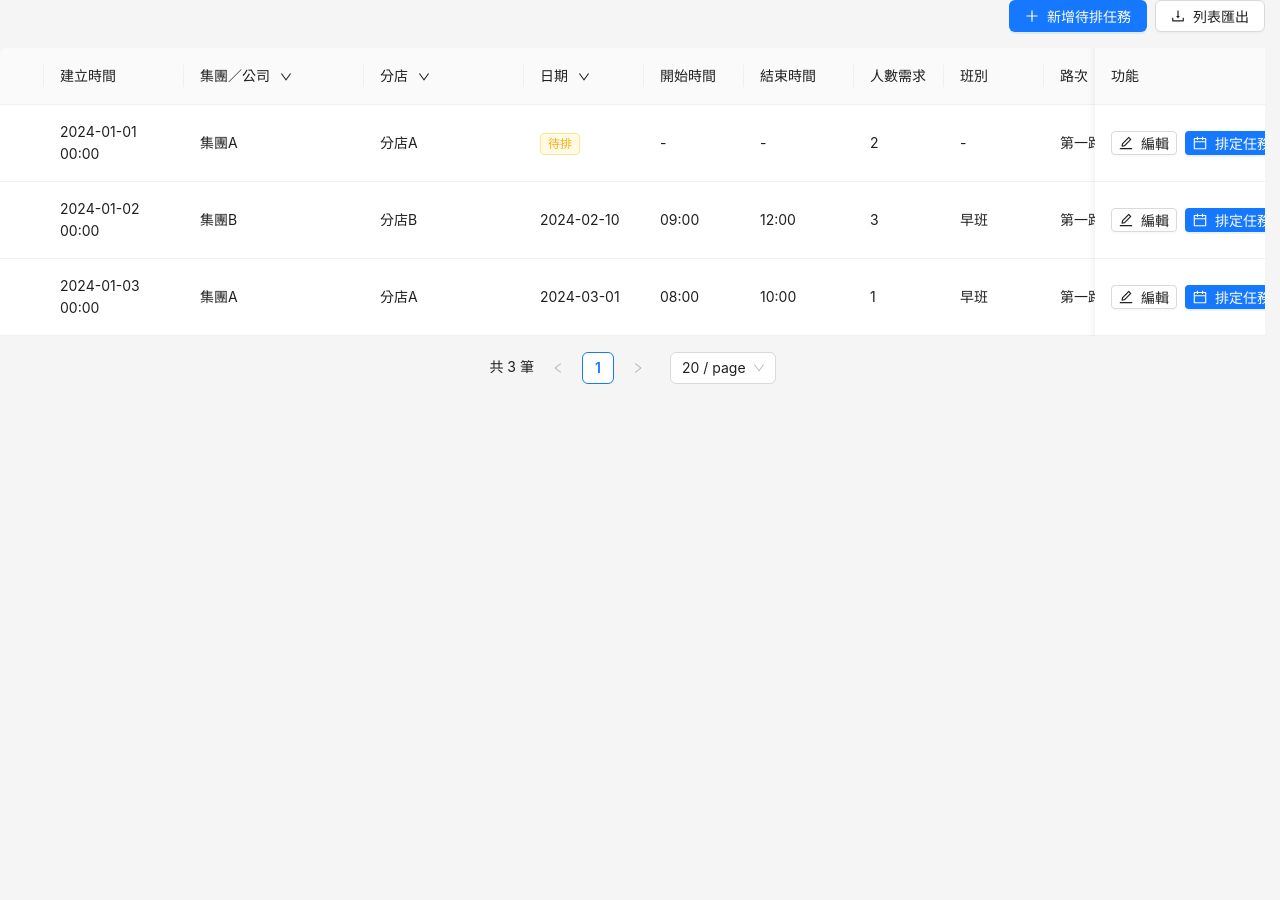
PendingCustomerPage › 新增/編輯待定客戶 - Requirement 14.2 › opens create modal with empty form when 新增待排任務 is clicked
This screenshot has width=1280, height=900.
Click the button "新增待排任務": coordinates (1078, 16) x1=1009 y1=0 x2=1147 y2=32
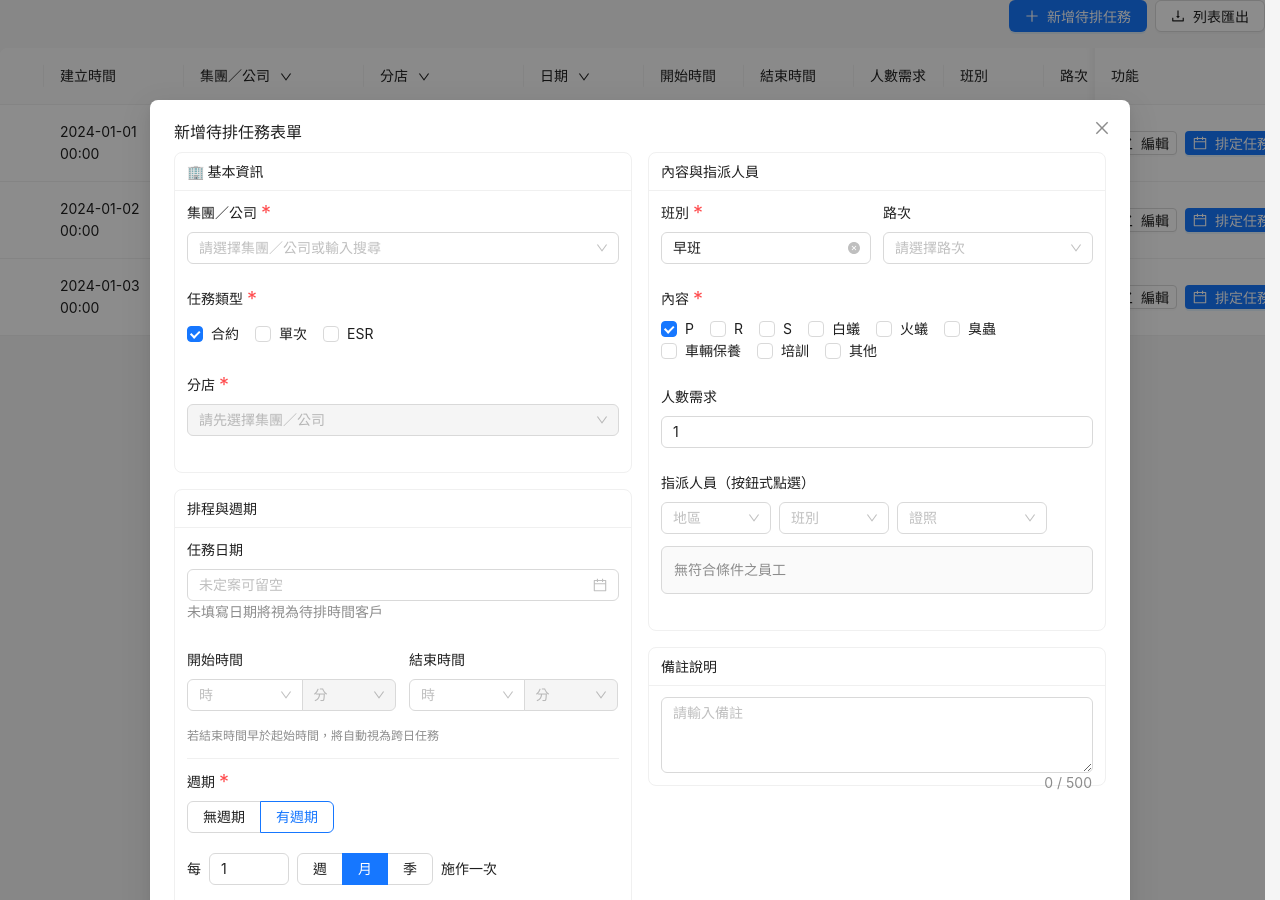
Check: the text "新增待排任務表單" is shown, box x1=174 y1=122 x2=302 y2=142
Check: the dropdown labelled "集團／公司" is shown, box x1=199 y1=233 x2=589 y2=263
Check: the number field labelled "人數需求" is shown, box x1=662 y1=417 x2=1092 y2=447
